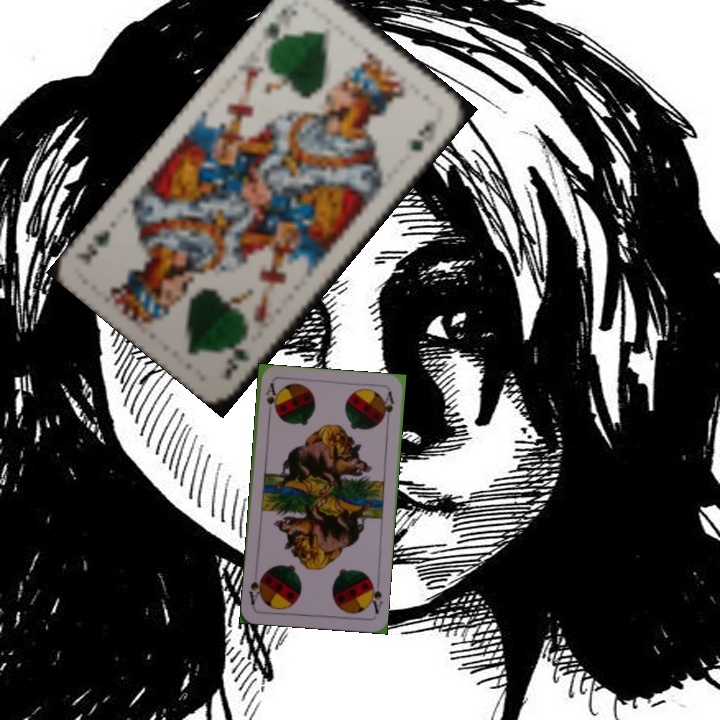GK: (220, 344, 253, 384), (261, 5, 287, 49)
SA: (365, 576, 385, 616), (262, 379, 279, 420)
